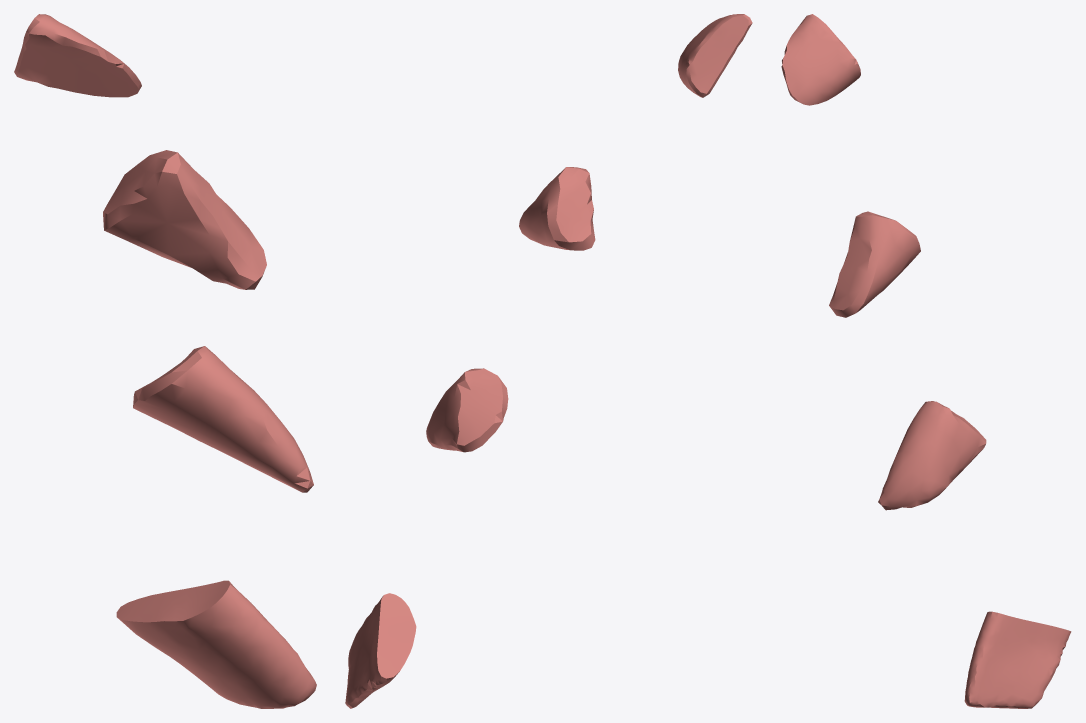
Rendered from fma48716-f_mm4271.glb.
3 views of the same model, side by side, from view 1: azimuth 30°, elevation 25°; view 2: azimuth 150°, elevation 25°; view 3: azimuth 270°, elevation 25° (orthographic). The views are drawn at different scales.
Parts seen in each view (by area): view 1: FMA48716-F_MM4271; view 2: FMA48716-F_MM4271; view 3: FMA48716-F_MM4271.
Part boxes in pixels (bbox=[...]): FMA48716-F_MM4271: bbox=[14, 14, 316, 708]; FMA48716-F_MM4271: bbox=[345, 14, 752, 708]; FMA48716-F_MM4271: bbox=[781, 14, 1071, 708].
Bounding box in the file's own units: 0.0455 × 0.0936 × 0.0424.
